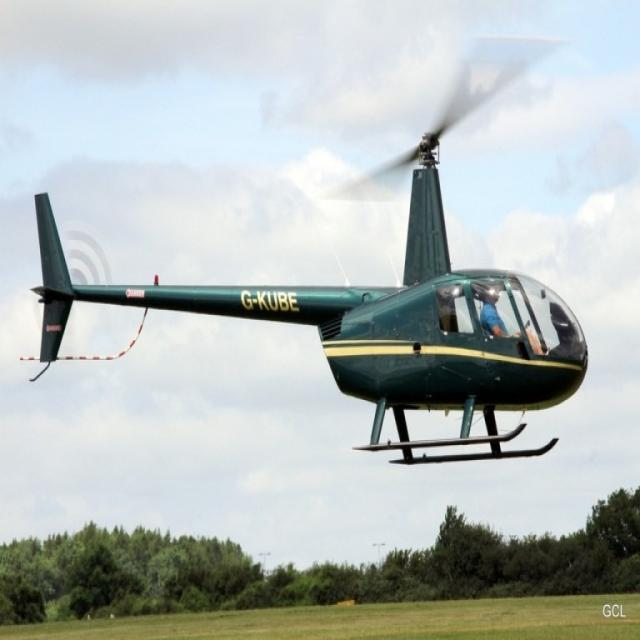CIV_HELO: (26, 129, 592, 466)
